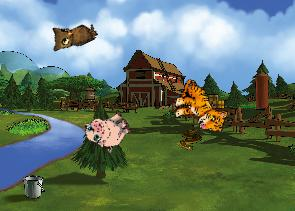owl: (45, 11, 99, 56)
pig: (80, 102, 136, 157)
tiger: (169, 77, 233, 135)
